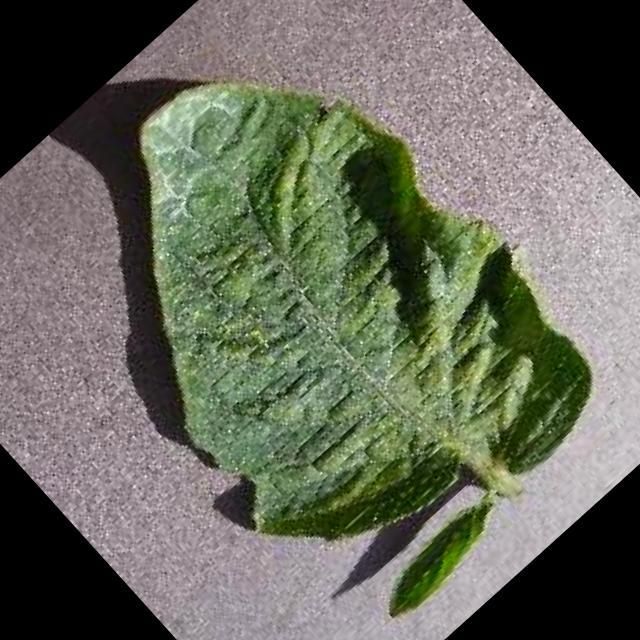Tomato spider mites leaf: (1, 0, 630, 632)
